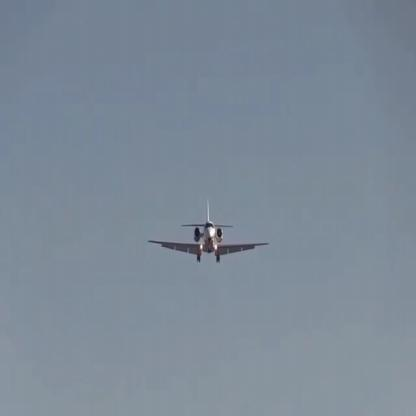CIV_Plane: (148, 202, 271, 264)
